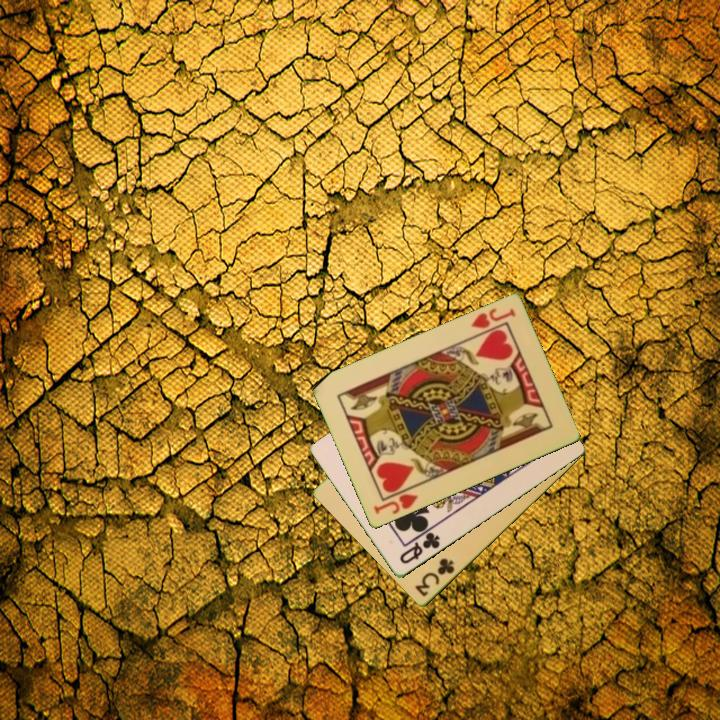3c: (411, 555, 458, 600)
Jh: (370, 490, 421, 517), (467, 305, 518, 332)
Qc: (396, 529, 443, 567)
